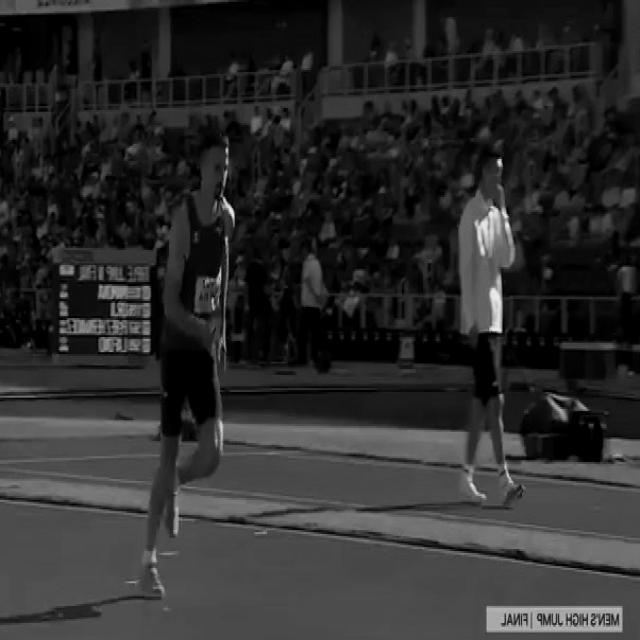run: (134, 125, 236, 606)
